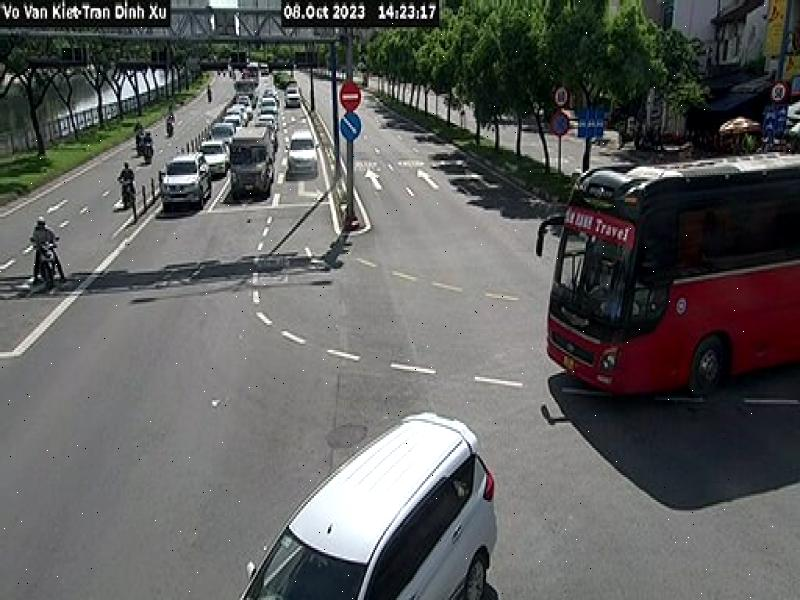bus: (548, 150, 800, 399)
car: (240, 414, 497, 600), (160, 150, 211, 209), (286, 130, 320, 178), (198, 140, 228, 176)
motorcycle: (29, 236, 59, 291)
truck: (228, 128, 274, 199)
